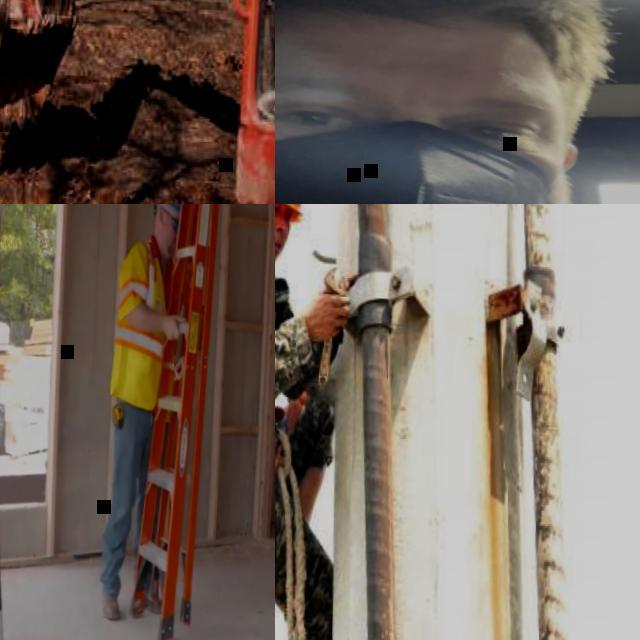Helmet: (146, 198, 194, 220), (274, 202, 303, 216)
Robbery: (274, 0, 639, 200), (101, 199, 196, 634), (271, 194, 359, 640)
